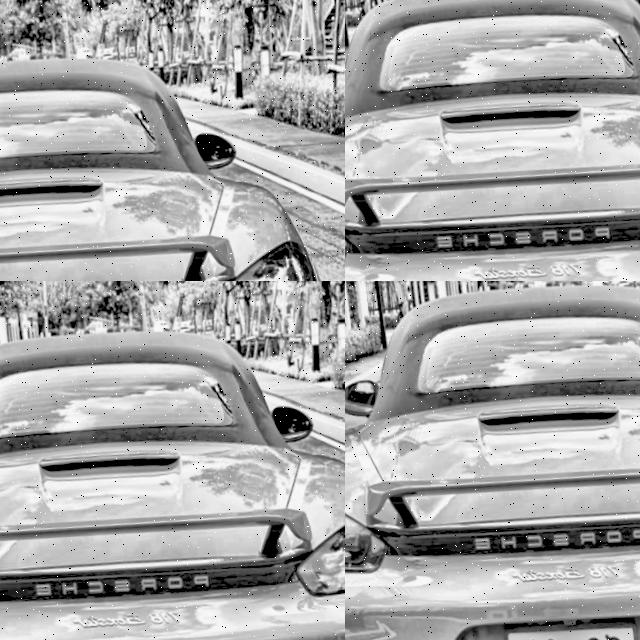license-plate: (499, 608, 640, 640), (274, 281, 345, 334), (265, 0, 345, 21)
